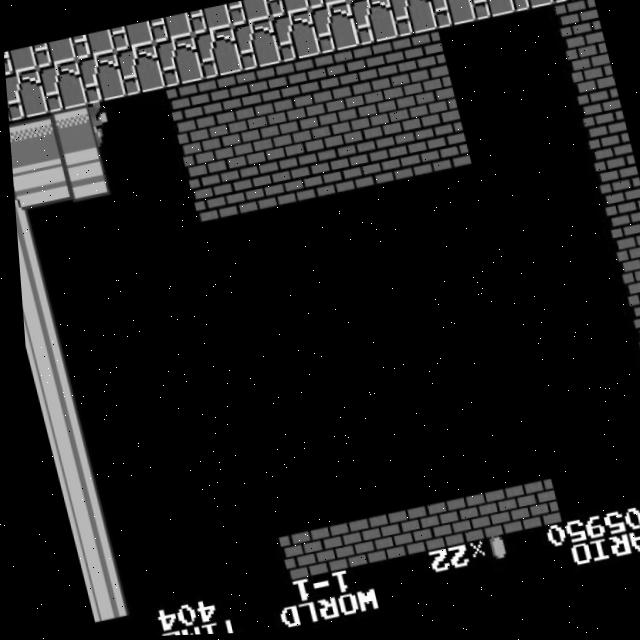1- brick_block: (502, 479, 553, 533), (407, 76, 458, 130), (463, 487, 514, 541), (241, 64, 292, 118), (202, 72, 253, 126), (268, 528, 319, 582), (418, 122, 469, 175), (397, 32, 448, 85), (368, 85, 419, 138), (358, 40, 409, 93), (425, 496, 476, 549), (330, 93, 381, 146), (319, 48, 370, 101), (386, 504, 437, 557), (301, 146, 352, 199), (290, 101, 341, 154), (280, 56, 331, 109), (346, 512, 397, 565), (262, 154, 313, 207), (251, 109, 302, 162), (307, 520, 358, 573), (223, 162, 274, 215), (212, 117, 263, 170), (173, 125, 224, 178), (163, 81, 214, 134), (585, 134, 635, 188), (379, 130, 430, 182), (340, 138, 391, 190), (184, 171, 235, 223), (554, 0, 604, 53), (574, 90, 624, 142), (564, 45, 614, 97), (596, 179, 640, 233), (606, 224, 640, 277), (617, 268, 640, 322), (627, 313, 640, 366), (638, 359, 640, 411)
14- pipe: (17, 157, 68, 211), (7, 113, 58, 166), (74, 569, 125, 622), (42, 435, 93, 488), (32, 390, 83, 443), (64, 525, 115, 577), (53, 480, 104, 532), (21, 346, 72, 398), (18, 300, 62, 353), (15, 255, 51, 308), (12, 211, 40, 263), (10, 167, 30, 218)
15- pipe_head: (56, 149, 107, 203), (46, 104, 97, 158)
17- undestructible_block: (308, 3, 359, 57), (191, 27, 242, 81), (152, 35, 203, 89), (113, 43, 164, 97), (269, 11, 320, 64), (230, 19, 281, 72), (74, 52, 125, 105), (35, 60, 86, 113), (347, 0, 398, 48), (4, 68, 47, 121), (386, 0, 437, 40), (425, 0, 476, 32), (69, 29, 115, 61), (30, 37, 76, 69), (186, 5, 232, 36), (147, 13, 193, 44), (108, 21, 154, 52), (225, 0, 271, 28), (465, 0, 515, 23), (3, 45, 36, 76), (264, 0, 310, 19), (504, 0, 554, 15), (303, 0, 348, 12), (544, 0, 592, 8), (343, 0, 388, 4)
